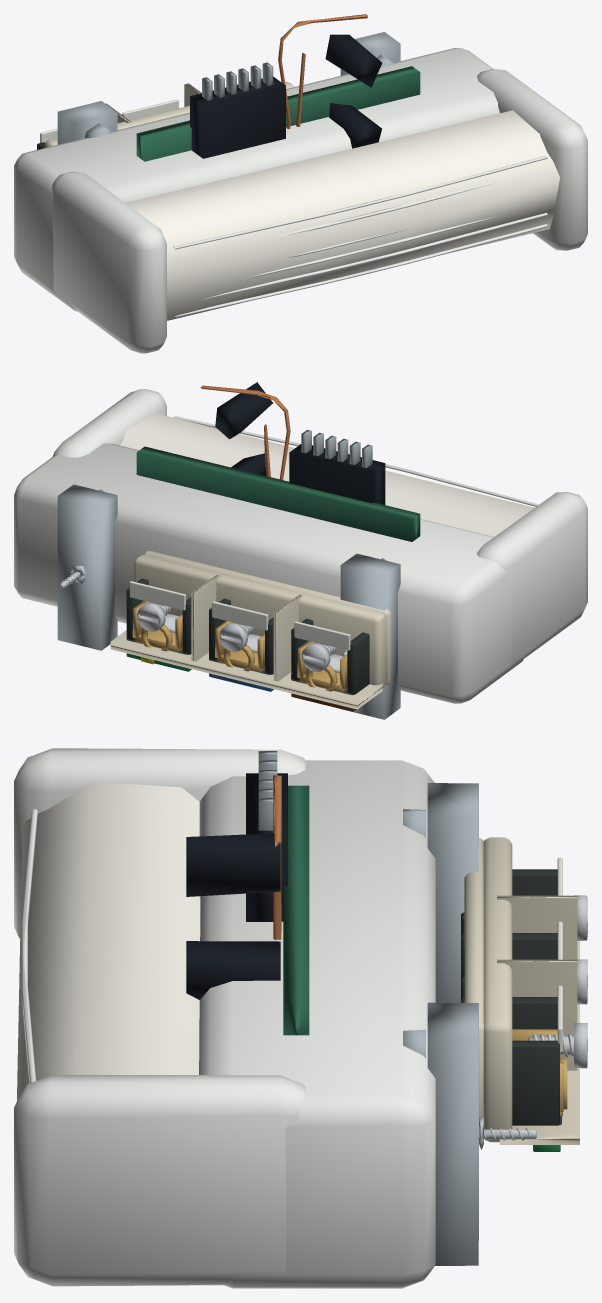
File: lamp_batten.low.glb
3 renders of one model, top to bottom at view 1: azimuth 30°, elevation 25°; view 2: azimuth 150°, elevation 25°; view 3: azimuth 270°, elevation 25°, orthographic. The views are drawn at different scales.
Parts seen in each view (by area): view 1: part:body · Original 7dbee62c, part:cover, part:electronics.001 · Original 3ff2d46d, part:cover · Original 7dbee62c, part:electronics.001, part:mounting · Original 2a8198d3, part:electronics.001 · Original 2a8198d3, part:electronics.001 · Original db0da9ae, part:terminals · Original 5a609f27, Moulded terminal legend pad.001; view 2: part:body · Original 7dbee62c, part:terminals · Original 5a609f27, part:mounting · Original 2a8198d3, part:cover, part:electronics.001, part:electronics.001 · Original 3ff2d46d, detail:terminal-clamp:L · Detail moulded engineering polymer, part:electronics.001 · Original 2a8198d3, detail:terminal-clamp:L · Detail machined brass, detail:terminal-clamp:PE · Detail machined brass, detail:terminal-clamp:N · Detail machined brass, detail:terminal-clamp:PE · Detail moulded engineering polyme (+9 smaller); view 3: part:body · Original 7dbee62c, part:cover, part:mounting · Original 2a8198d3, part:terminals · Original 5a609f27, part:electronics.001 · Original 3ff2d46d, part:electronics.001, detail:terminal-clamp:PE · Detail moulded engineering polyme, part:cover · Original 7dbee62c, detail:terminal-clamp:N · Detail moulded engineering polymer, part:electronics.001 · Original 2a8198d3, detail:terminal-clamp:L · Detail moulded engineering polymer, part:electronics.001 · Original db0da9ae (+2 smaller).
Part boxes in pixels (box(x1,y1,x2,y2)): part:body · Original 7dbee62c: box(14, 48, 587, 353); part:cover: box(126, 110, 559, 320); part:electronics.001 · Original 3ff2d46d: box(190, 34, 381, 158); part:cover · Original 7dbee62c: box(173, 156, 547, 317); part:electronics.001: box(136, 66, 420, 161); part:mounting · Original 2a8198d3: box(57, 32, 400, 144); part:electronics.001 · Original 2a8198d3: box(202, 62, 273, 100); part:electronics.001 · Original db0da9ae: box(278, 14, 367, 129); part:terminals · Original 5a609f27: box(45, 82, 294, 147); Moulded terminal legend pad.001: box(122, 99, 178, 120); part:body · Original 7dbee62c: box(14, 389, 587, 703); part:terminals · Original 5a609f27: box(110, 550, 391, 709); part:mounting · Original 2a8198d3: box(57, 484, 400, 719); part:cover: box(120, 413, 534, 536); part:electronics.001: box(136, 446, 420, 541); part:electronics.001 · Original 3ff2d46d: box(215, 382, 385, 504); detail:terminal-clamp:L · Detail moulded engineering polymer: box(291, 618, 369, 695); part:electronics.001 · Original 2a8198d3: box(301, 429, 372, 467); detail:terminal-clamp:L · Detail machined brass: box(297, 641, 347, 692); detail:terminal-clamp:PE · Detail machined brass: box(132, 601, 182, 652); detail:terminal-clamp:N · Detail machined brass: box(215, 621, 264, 672); detail:terminal-clamp:PE · Detail moulded engineering polyme: box(126, 578, 191, 654); part:body · Original 7dbee62c: box(14, 748, 435, 1288); part:cover: box(17, 782, 200, 1100); part:mounting · Original 2a8198d3: box(403, 783, 478, 1265); part:terminals · Original 5a609f27: box(464, 837, 579, 1144); part:electronics.001 · Original 3ff2d46d: box(186, 773, 287, 999); part:electronics.001: box(283, 785, 309, 1035); detail:terminal-clamp:PE · Detail moulded engineering polyme: box(461, 997, 561, 1125); part:cover · Original 7dbee62c: box(21, 809, 37, 1083); detail:terminal-clamp:N · Detail moulded engineering polymer: box(461, 933, 557, 998); part:electronics.001 · Original 2a8198d3: box(258, 751, 277, 830); detail:terminal-clamp:L · Detail moulded engineering polymer: box(461, 869, 557, 962); part:electronics.001 · Original db0da9ae: box(273, 775, 281, 939).
Size of the model in its own units: 0.947 by 0.4656 by 0.6455.
